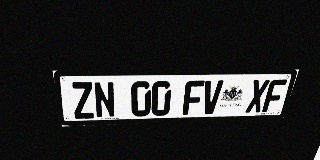0: (151, 81, 172, 116), (131, 81, 151, 117)
F: (262, 79, 287, 112), (182, 80, 205, 115)
N: (93, 81, 116, 118)
V: (201, 80, 224, 114)
X: (245, 80, 270, 113)
Z: (70, 82, 95, 119)
